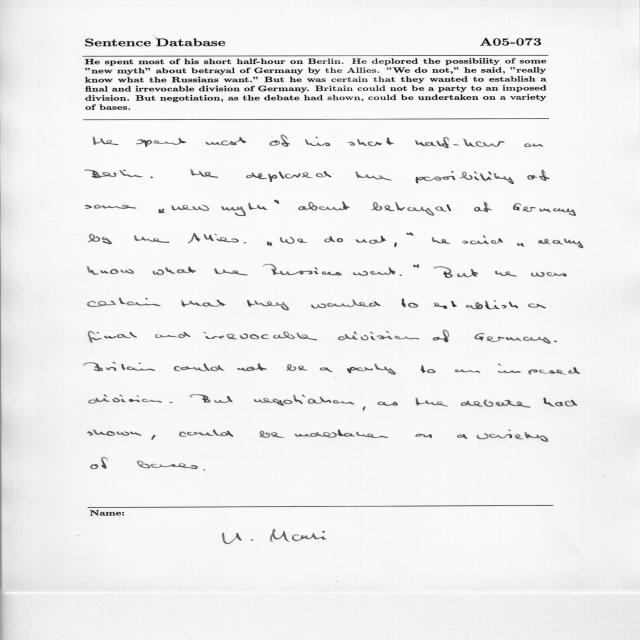word: (416, 171, 514, 184), (371, 202, 451, 216), (254, 395, 355, 406), (203, 332, 317, 341), (415, 137, 504, 148), (263, 264, 342, 276), (246, 171, 331, 182), (498, 364, 580, 375), (477, 430, 548, 442), (295, 429, 388, 438), (475, 333, 551, 344), (513, 203, 576, 216), (434, 301, 518, 310), (338, 331, 419, 340), (88, 298, 161, 307), (89, 395, 162, 404), (84, 363, 155, 372), (311, 300, 381, 309), (461, 399, 530, 408), (222, 203, 268, 216), (88, 331, 137, 343), (347, 364, 396, 375), (434, 266, 478, 278), (188, 233, 239, 243), (298, 202, 350, 211), (85, 170, 143, 178), (247, 300, 289, 311), (137, 138, 187, 147), (179, 429, 233, 437), (137, 461, 190, 469), (87, 266, 134, 275), (348, 138, 394, 147), (174, 364, 224, 372), (353, 267, 395, 276), (88, 429, 141, 436), (206, 137, 247, 146), (462, 236, 503, 245), (153, 267, 196, 275), (190, 395, 233, 403), (355, 172, 392, 181), (181, 300, 226, 307), (544, 398, 578, 407), (553, 239, 583, 249), (416, 398, 448, 407), (134, 235, 169, 243), (214, 268, 248, 276), (269, 135, 290, 147), (190, 169, 218, 178), (305, 137, 330, 147), (355, 236, 386, 244), (528, 170, 550, 181), (237, 363, 267, 371), (89, 234, 112, 244), (171, 205, 209, 211), (155, 332, 190, 338), (86, 205, 137, 209), (91, 457, 108, 469), (93, 137, 118, 145), (433, 330, 449, 342), (280, 237, 307, 244), (474, 202, 492, 212), (531, 272, 567, 277), (259, 431, 284, 438), (401, 298, 418, 308), (287, 364, 308, 371), (495, 271, 517, 277), (432, 237, 450, 244), (421, 365, 436, 373), (324, 236, 343, 242), (377, 401, 398, 406), (455, 369, 480, 373), (528, 304, 546, 309), (524, 144, 543, 148), (415, 434, 432, 438), (538, 239, 551, 244), (320, 368, 332, 373), (457, 434, 468, 439), (159, 209, 165, 214), (517, 243, 524, 247), (191, 465, 198, 469), (414, 264, 420, 268), (407, 233, 414, 236), (275, 200, 280, 204), (267, 242, 272, 246), (152, 435, 156, 440), (363, 406, 366, 411), (394, 243, 397, 247), (244, 242, 246, 244), (151, 177, 154, 178), (554, 341, 557, 342), (170, 402, 173, 403), (400, 275, 402, 276)
